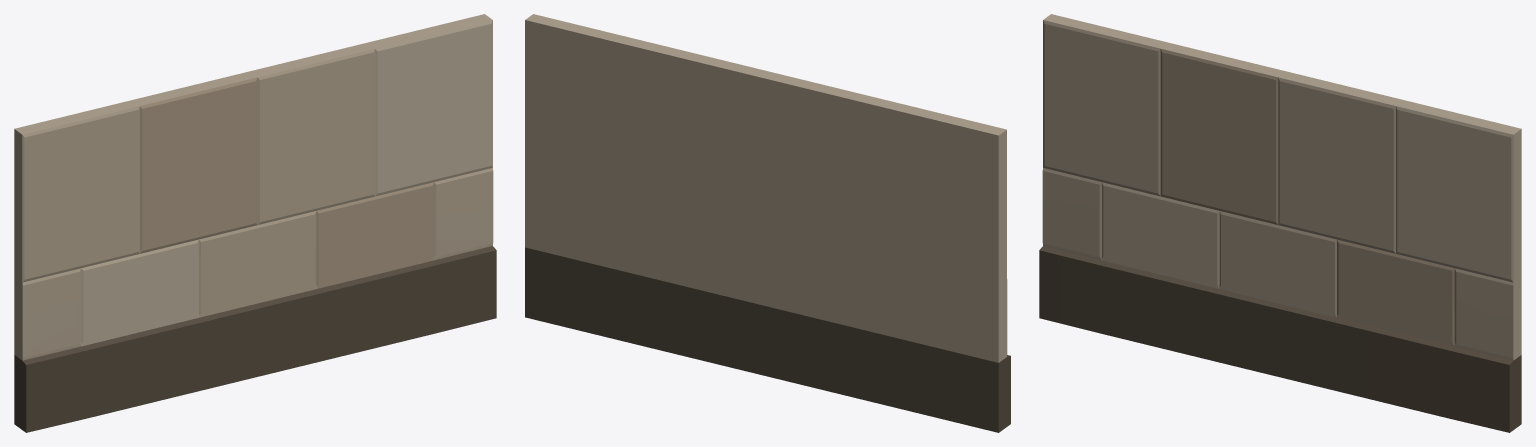
File: Wall_Exterior_Ground_01.glb
3 renders of one model, left to right at view 1: azimuth 30°, elevation 25°; view 2: azimuth 150°, elevation 25°; view 3: azimuth 330°, elevation 25°, orthographic.
Visible parts, largest first — view 1: SM_Env_Wall_Exterior_Ground_01; view 2: SM_Env_Wall_Exterior_Ground_01; view 3: SM_Env_Wall_Exterior_Ground_01.
Boxes of the visible parts, left/top/right/bottom form: SM_Env_Wall_Exterior_Ground_01: left=14, top=14, right=496, bottom=432; SM_Env_Wall_Exterior_Ground_01: left=525, top=14, right=1010, bottom=432; SM_Env_Wall_Exterior_Ground_01: left=1039, top=14, right=1521, bottom=432.
Size of the model in its own units: 5 by 3 by 0.2284.
1 material, 1 textured.
